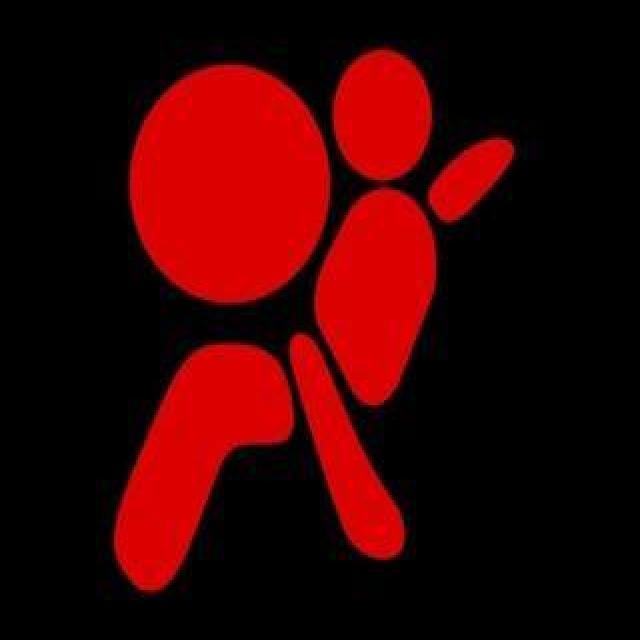kontrolka: (80, 43, 520, 614)
